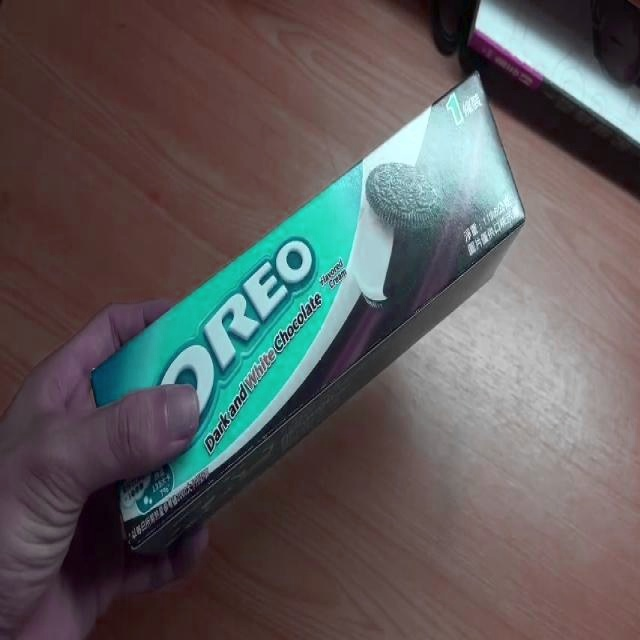Oreo: (89, 71, 527, 568)
